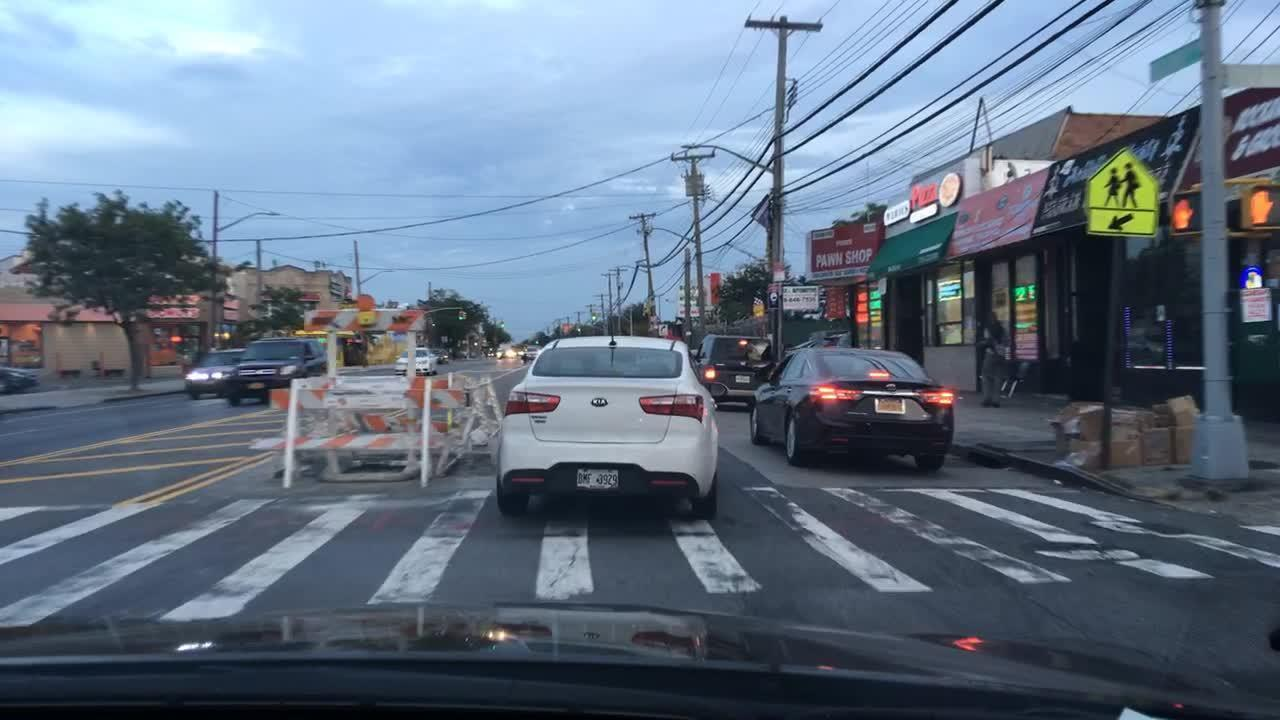kia: (588, 395, 613, 410)
